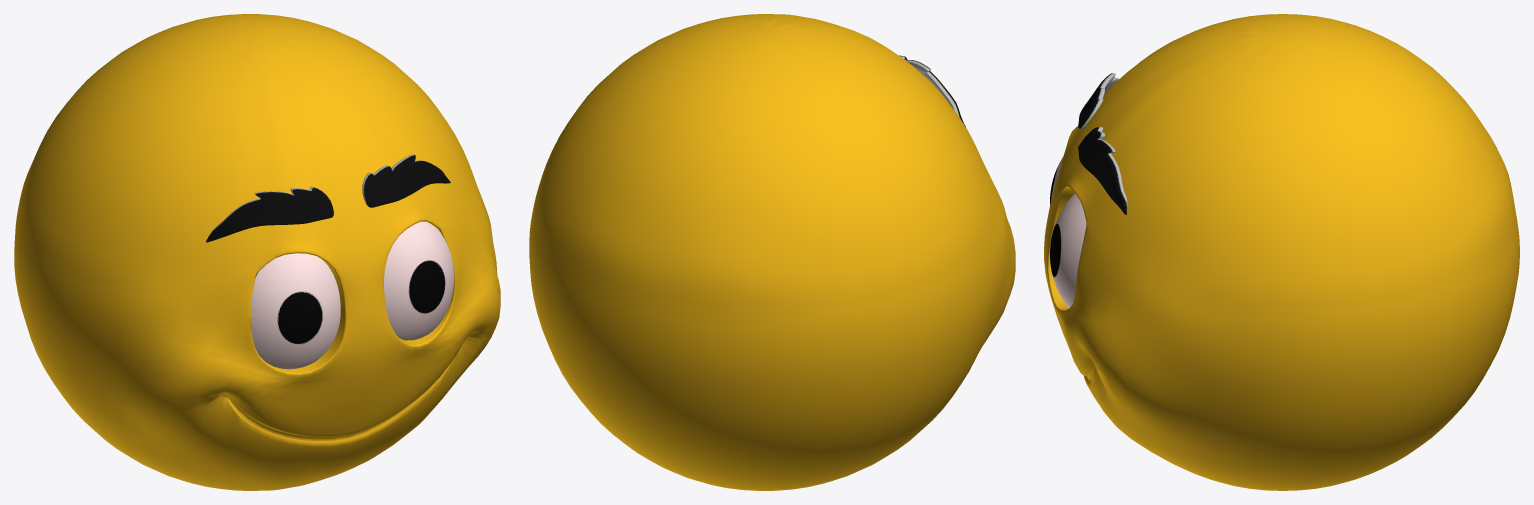
File: smile_000013.obj
3 renders of one model, left to right at view 1: azimuth 30°, elevation 25°; view 2: azimuth 150°, elevation 25°; view 3: azimuth 270°, elevation 25°, orthographic.
Parts seen in each view (by area): view 1: Smile_Base1:polySurface1_Untitled; view 2: Smile_Base1:polySurface1_Untitled; view 3: Smile_Base1:polySurface1_Untitled.
Boxes of the visible parts, x1,y1,x2,y2 form: Smile_Base1:polySurface1_Untitled: [14, 14, 500, 490]; Smile_Base1:polySurface1_Untitled: [529, 14, 1015, 490]; Smile_Base1:polySurface1_Untitled: [1044, 14, 1519, 490].
Size of the model in its own units: 0.0425 by 0.0431 by 0.0428.
Materials: 1 (1 with a texture image).
